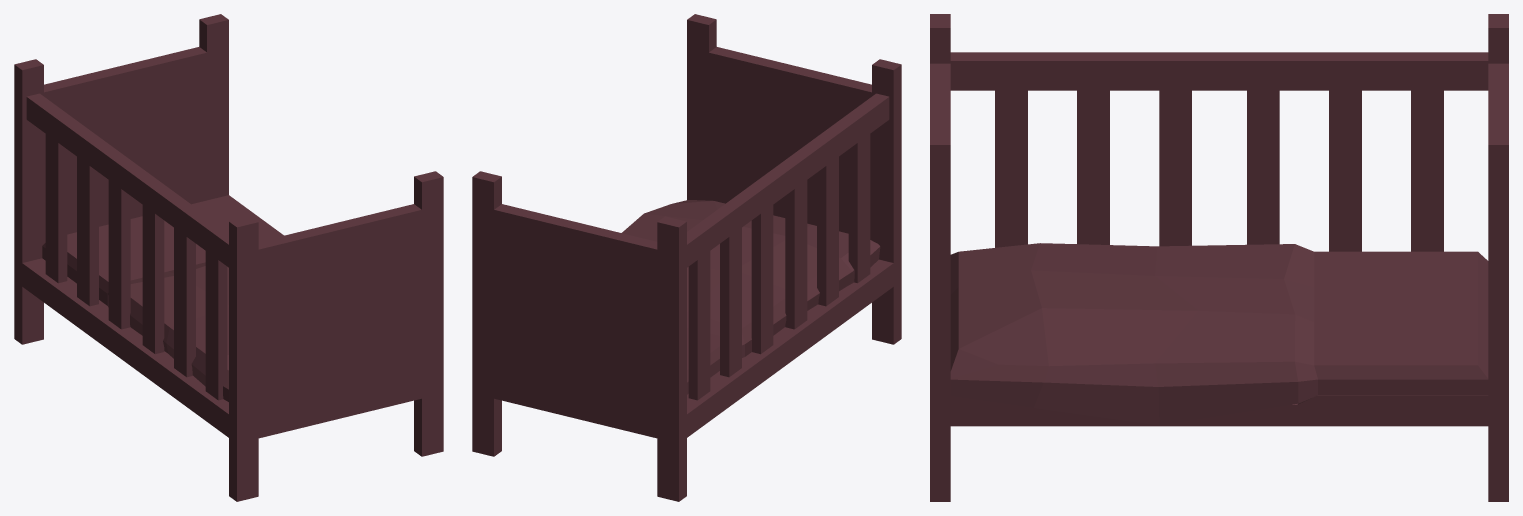
Rendered from toddler-bed-open.fbx.
3 views of the same model, side by side, from view 1: azimuth 30°, elevation 25°; view 2: azimuth 150°, elevation 25°; view 3: azimuth 270°, elevation 25° (orthographic). The views are drawn at different scales.
Parts seen in each view (by area): view 1: toddler-bed-open; view 2: toddler-bed-open; view 3: toddler-bed-open.
Part boxes in pixels (x1,y1,x2,y2): toddler-bed-open: (14, 14, 443, 501); toddler-bed-open: (472, 14, 901, 501); toddler-bed-open: (930, 14, 1508, 501).
Size of the model in its own units: 0.7052 by 0.8502 by 1.25.
